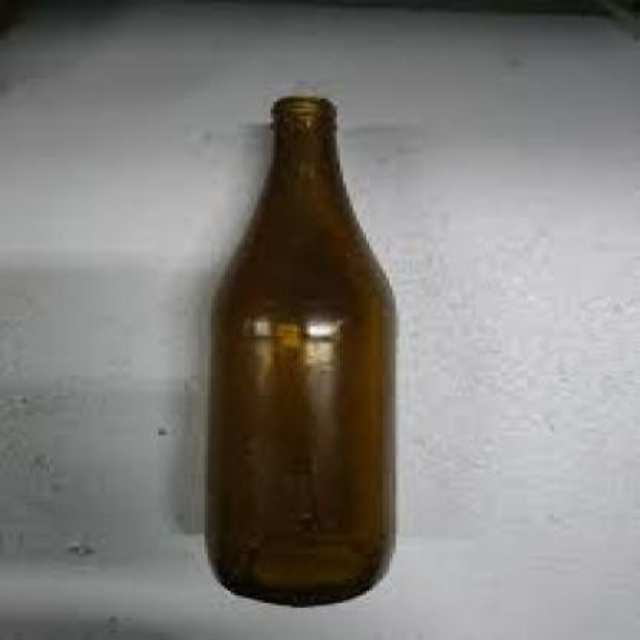trash: (206, 97, 394, 605)
